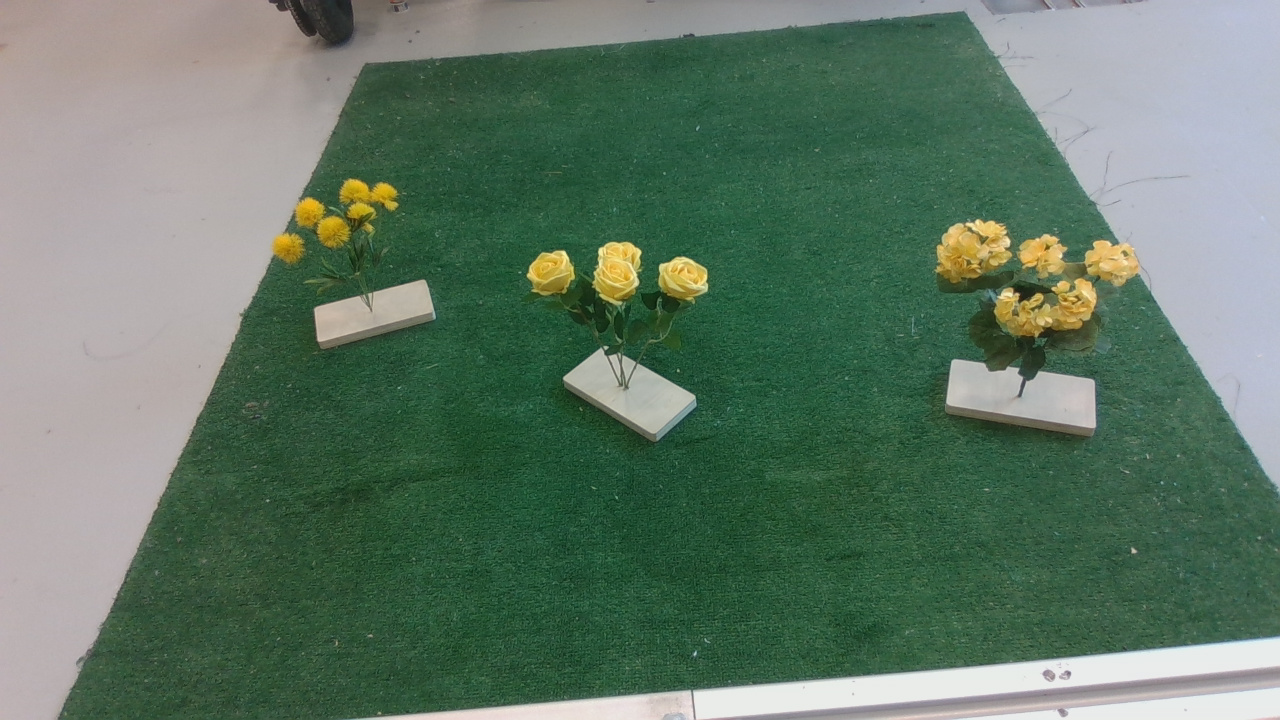dandelion: (271, 171, 415, 304)
geranium: (935, 205, 1148, 383)
rose: (510, 235, 721, 354)
